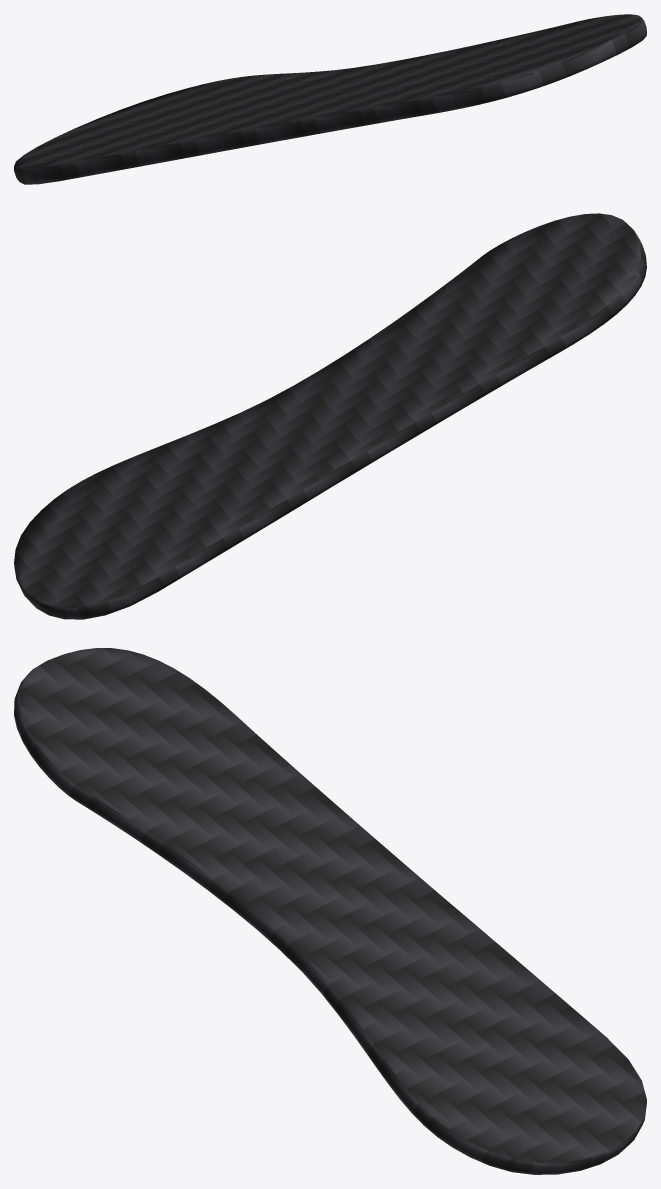
The model's file is shoes_carbon.glb.
The picture shows the model from 3 angles, top to bottom: view 1: azimuth 90°, elevation 25°; view 2: azimuth 150°, elevation 25°; view 3: azimuth 270°, elevation 25°; orthographic projection. The views are drawn at different scales.
Visible parts, largest first — view 1: shoescarbon; view 2: shoescarbon; view 3: shoescarbon.
Part boxes in pixels (<box>): shoescarbon: <box>14,14,646,184</box>; shoescarbon: <box>14,213,646,619</box>; shoescarbon: <box>14,648,646,1174</box>.
Bounding box in the file's own units: 0.1005 × 0.0597 × 0.1106.
1 material, 1 textured.
